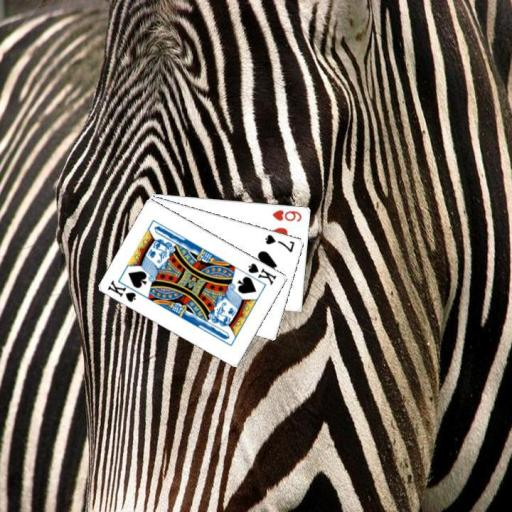6H: (270, 206, 304, 223)
7S: (263, 231, 297, 253)
KS: (105, 277, 144, 304), (245, 260, 278, 287)
